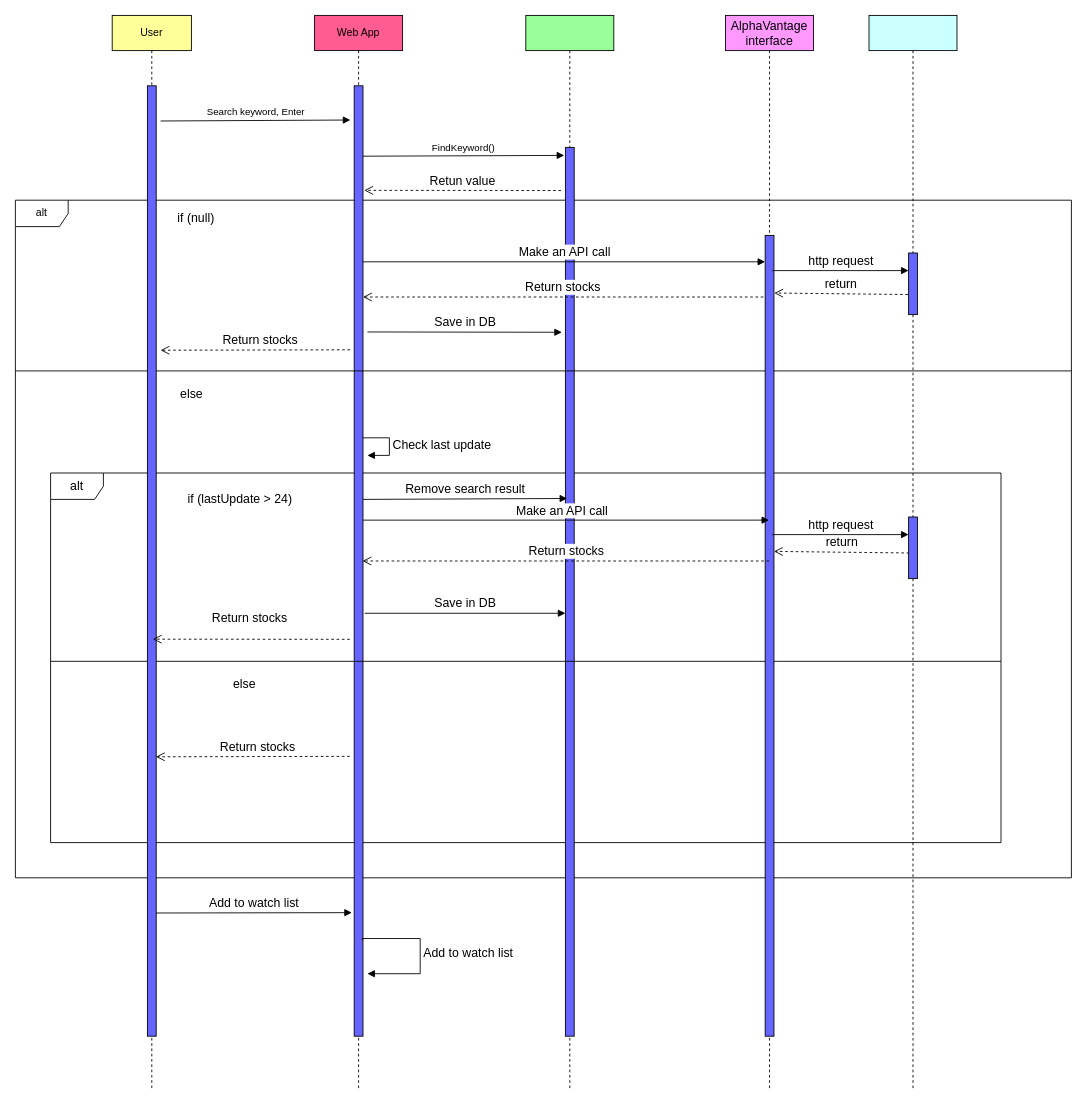
Some shapes in this 1087 by 1104 pixel diagram are drawn without their labels. Here are the shapes that lost their labels. From the top down, the centre of each, then its label:
point (569, 552): Database
point (912, 552): AlphaVantage API
